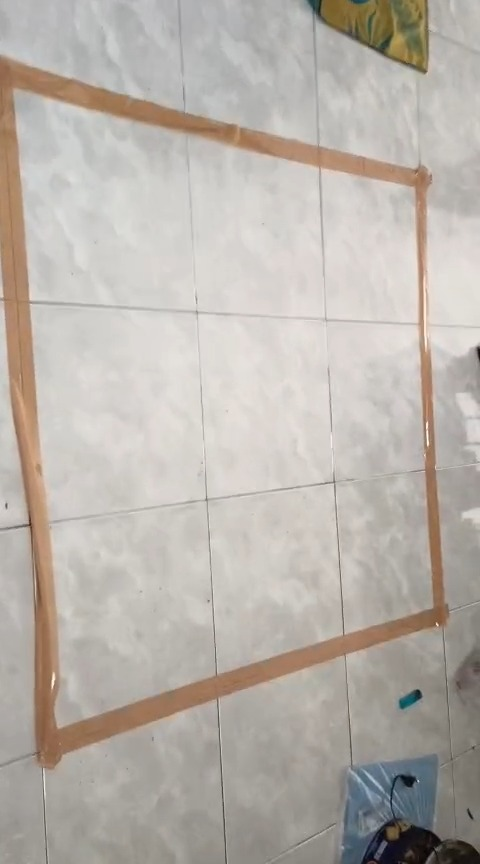floor marking: (0, 57, 447, 766)
